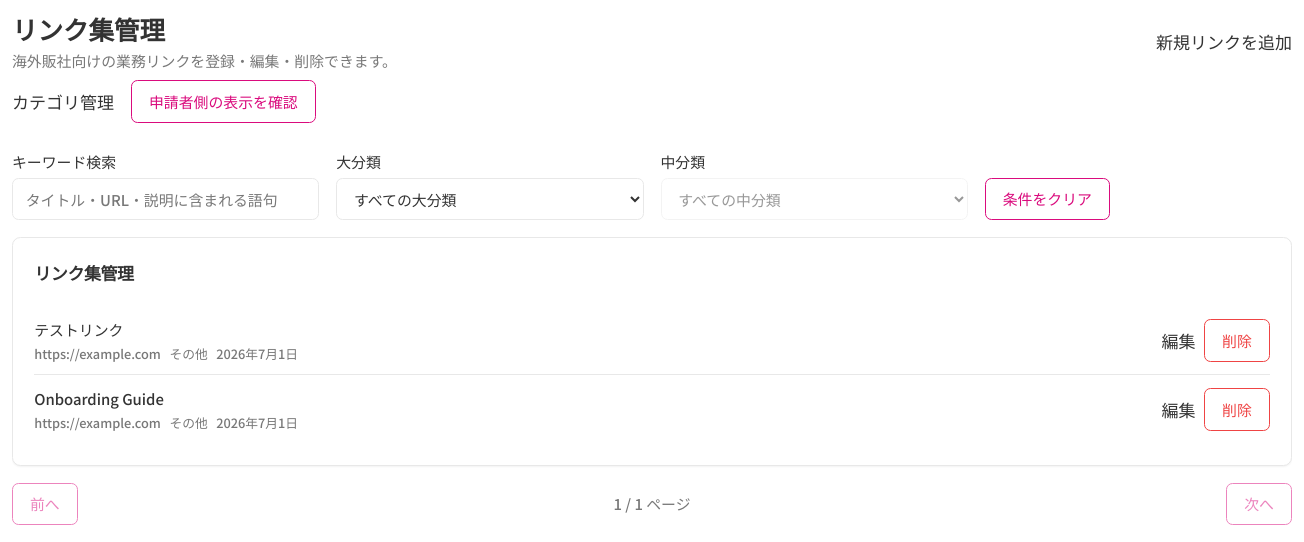
Test case: LinkManagementList › キーワードで絞り込むと一覧が即時に絞り込まれ、0件時はメッセージを表示する
Expected: the text "テストリンク" is shown, [34,319,124,340]
Expected: the text "Onboarding Guide" is shown, [34,388,164,409]
Step 1. Type "存在しないキーワード" into the field labelled "キーワード検索" → (166, 199), box [12,178,319,220]
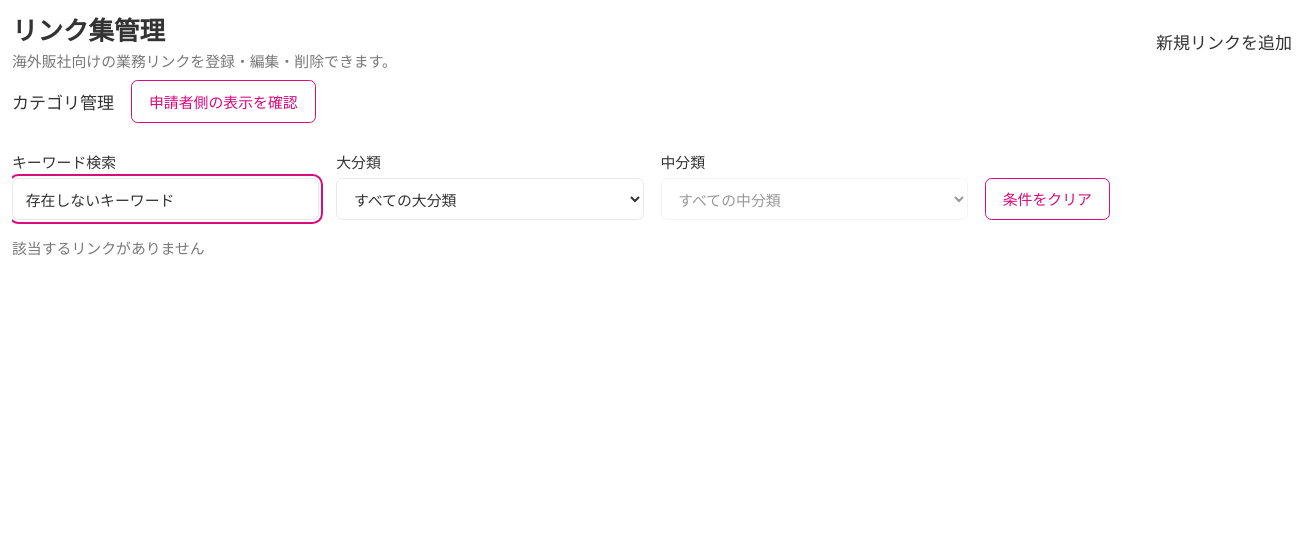
Now the text "該当するリンクがありません" is shown, box [12,237,205,258]
Now the text "テストリンク" is gone
Step 2. Click the button "条件をクリア" → (1047, 199), box [985,178,1110,220]
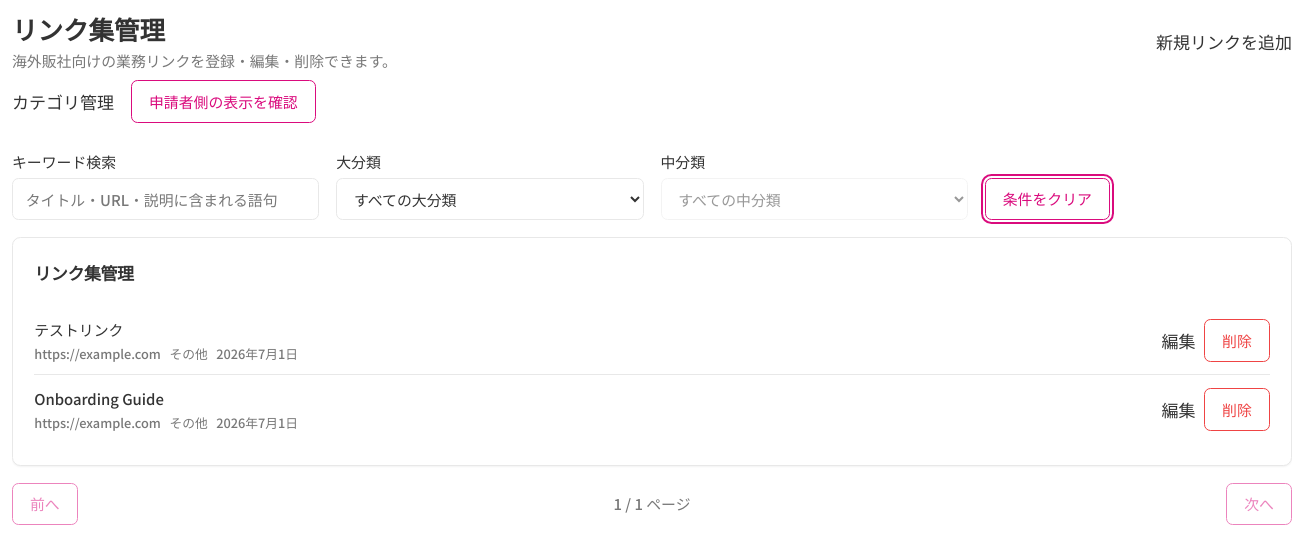
Now the text "テストリンク" is shown, box [34,319,124,340]
Now the text "Onboarding Guide" is shown, box [34,388,164,409]
